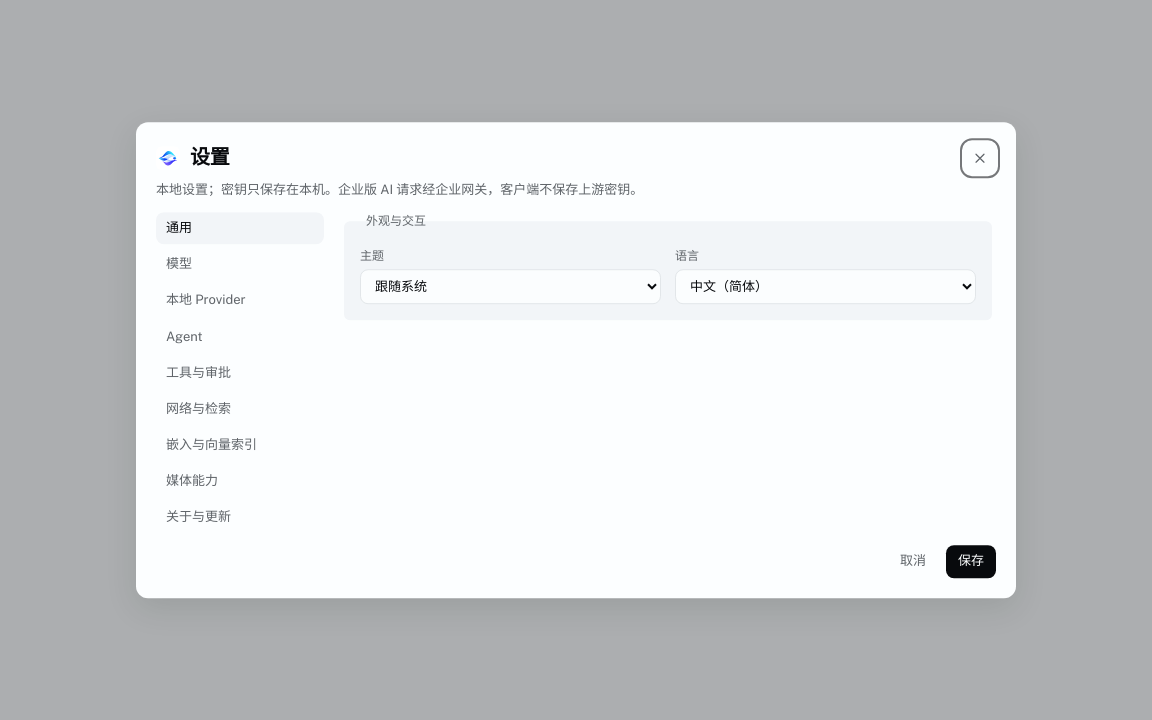
Test: settings dialog (paginated shell) › keeps the draft and offers reload on a revision conflict
The width and height of the screenshot is (1152, 720).
Select "深色" in the dropdown labelled "主题". click: coordinates (510, 287)
box: x1=360 y1=270 x2=661 y2=305
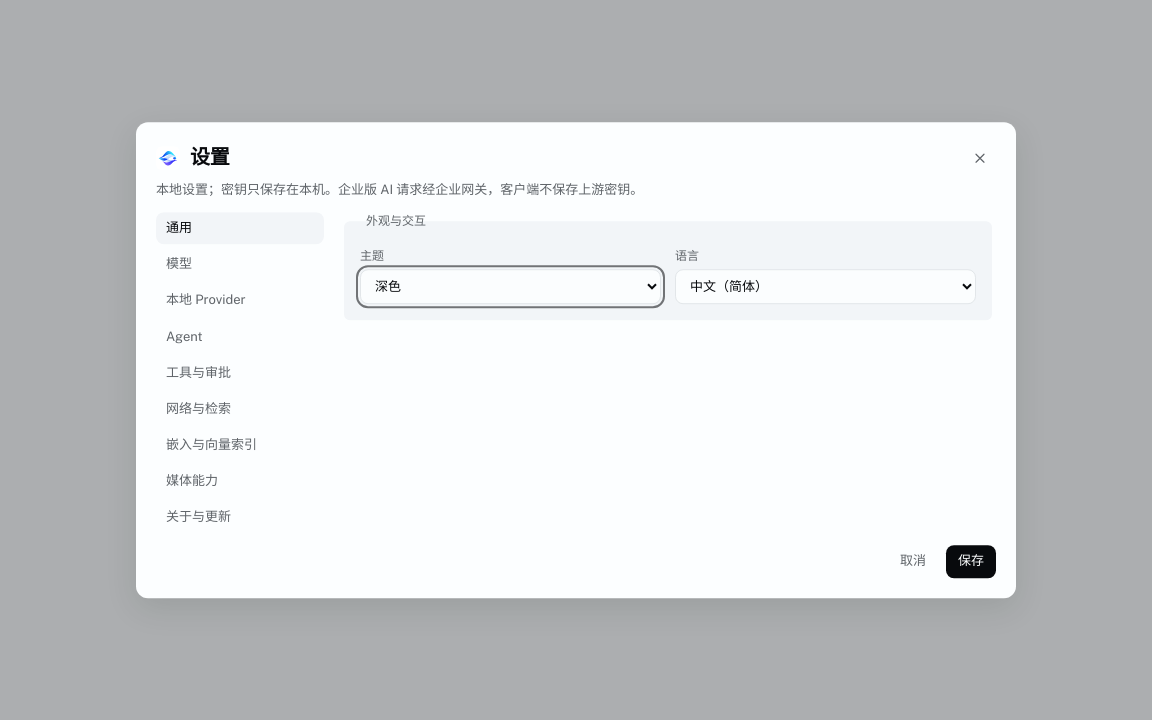
Click the button "保存". click: coordinates (971, 562)
box: x1=946 y1=546 x2=996 y2=578
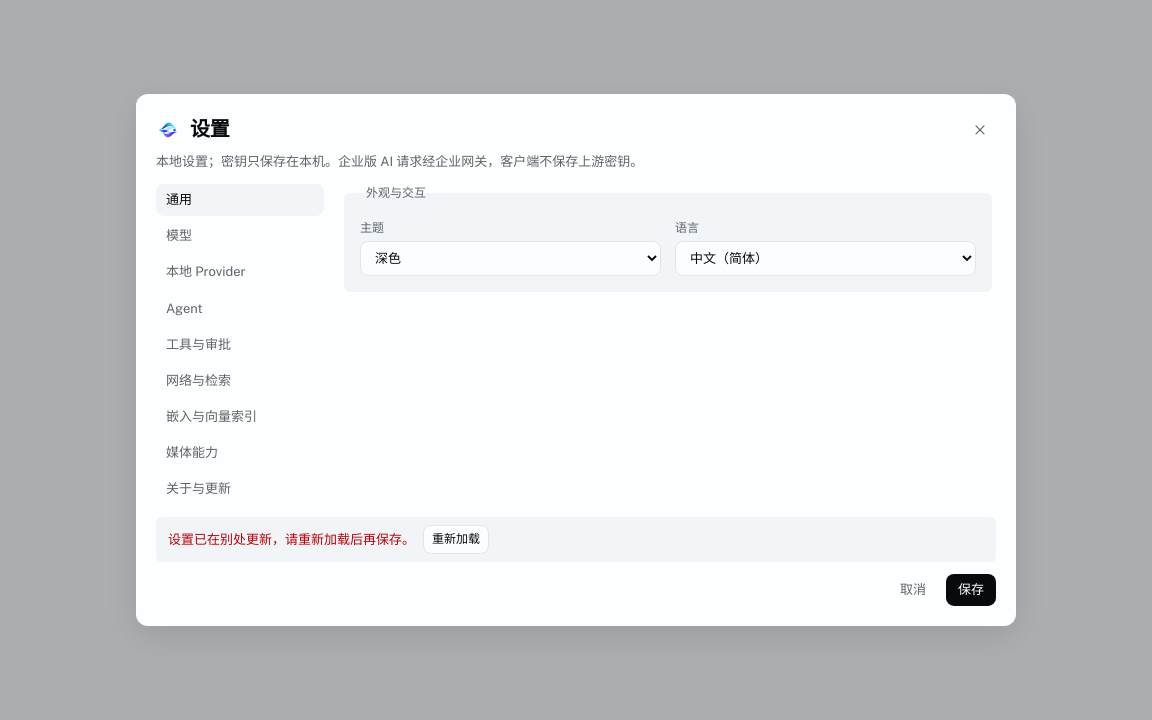
Check: the text "设置已在别处更新，请重新加载后再保存。" is shown, box x1=168 y1=530 x2=415 y2=550
# Reload re-reads the document and clears the banner.
Click the button "重新加载". click: coordinates (456, 540)
box: x1=423 y1=525 x2=489 y2=554
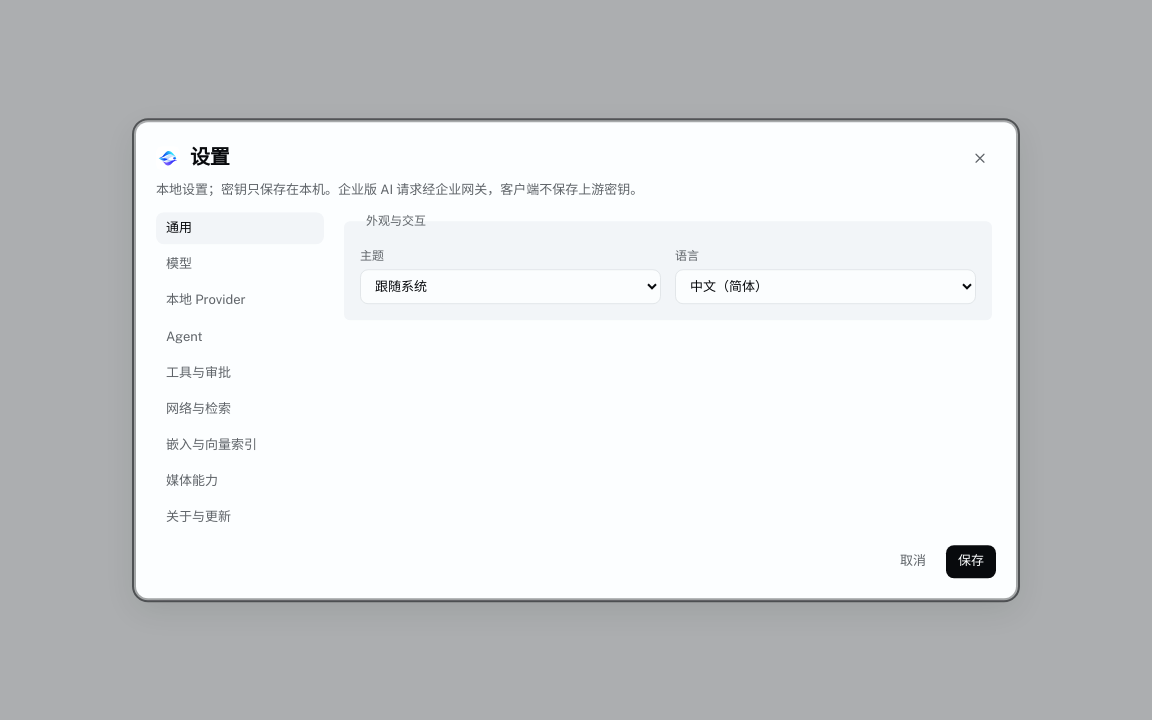
Check: the text "设置已在别处更新，请重新加载后再保存。" is gone
